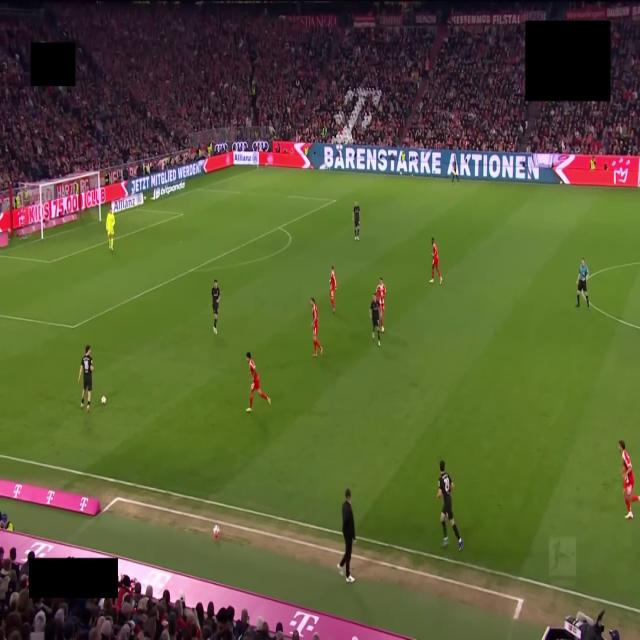ball: (101, 396, 106, 404)
player: (438, 461, 463, 551), (619, 440, 639, 519), (246, 352, 270, 412), (78, 345, 93, 411), (310, 298, 322, 356), (430, 238, 442, 284), (376, 278, 386, 332), (370, 295, 380, 346), (211, 280, 220, 334), (106, 212, 115, 250), (330, 266, 336, 312), (353, 201, 359, 240), (452, 155, 459, 183)
referee: (576, 258, 589, 308)
